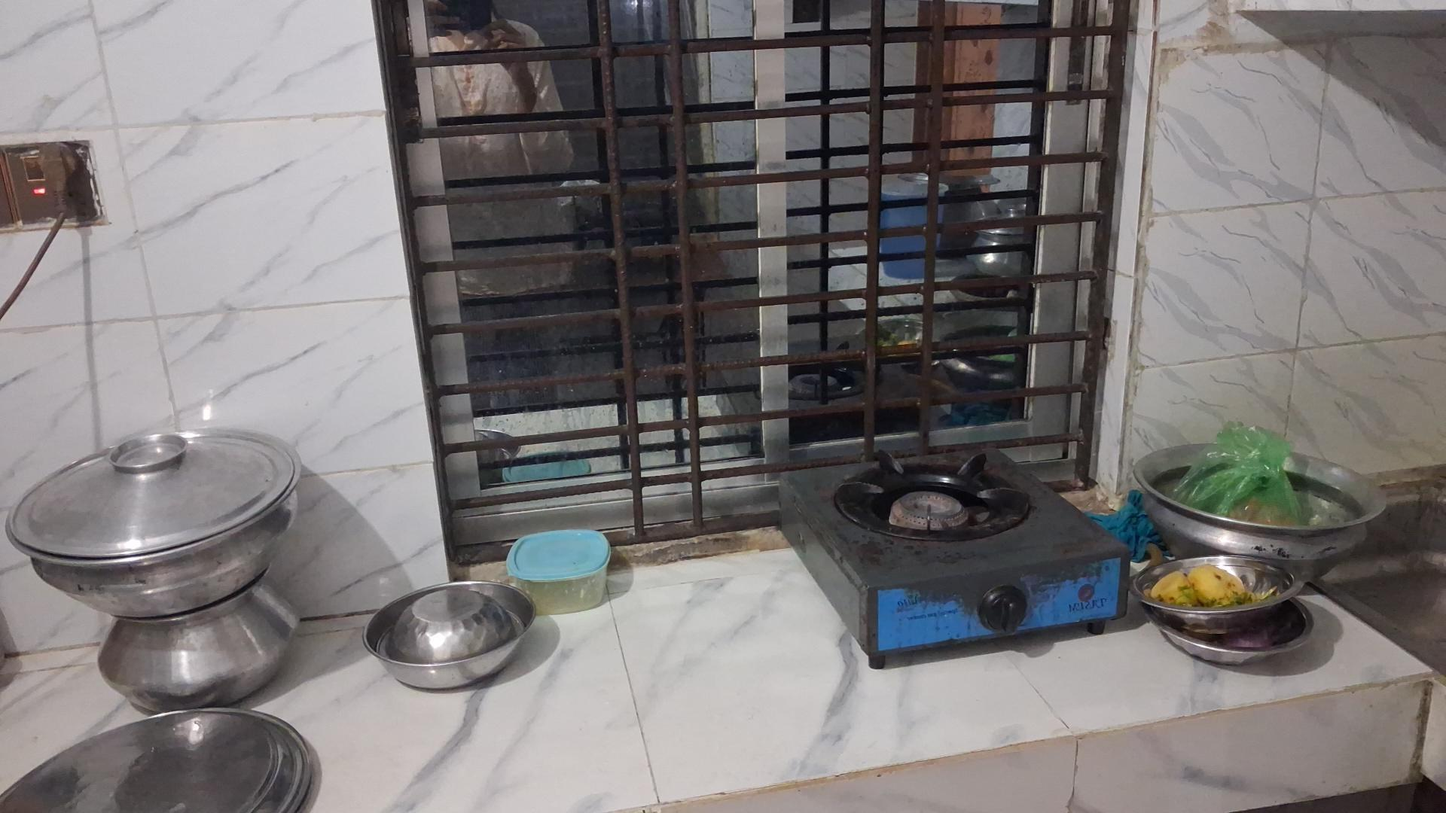Bowl: (359, 589, 533, 691), (1131, 550, 1298, 627), (1150, 606, 1304, 672)
Jar: (509, 529, 618, 613)
Plate: (0, 714, 322, 813)
Pot: (0, 425, 300, 611), (1141, 447, 1385, 597), (99, 608, 300, 709)
